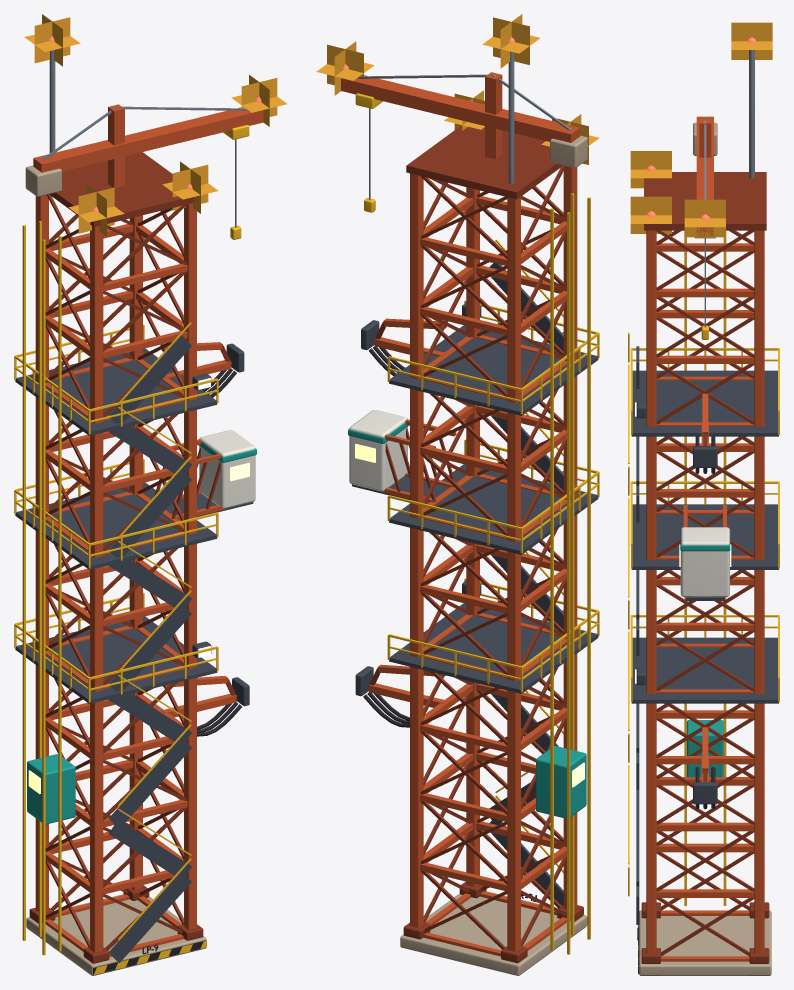
The model's file is dune_gantry.glb.
3 views of the same model, side by side, from view 1: azimuth 30°, elevation 25°; view 2: azimuth 150°, elevation 25°; view 3: azimuth 270°, elevation 25° (orthographic). The views are drawn at different scales.
Visible parts, largest first — view 1: Gantry; view 2: Gantry; view 3: Gantry.
Boxes of the visible parts, x1,y1,x2,y2 form: Gantry: (14, 14, 287, 975); Gantry: (316, 14, 599, 975); Gantry: (628, 22, 779, 975).
Bounding box in the file's own units: 11.54 × 40.74 × 6.19.
